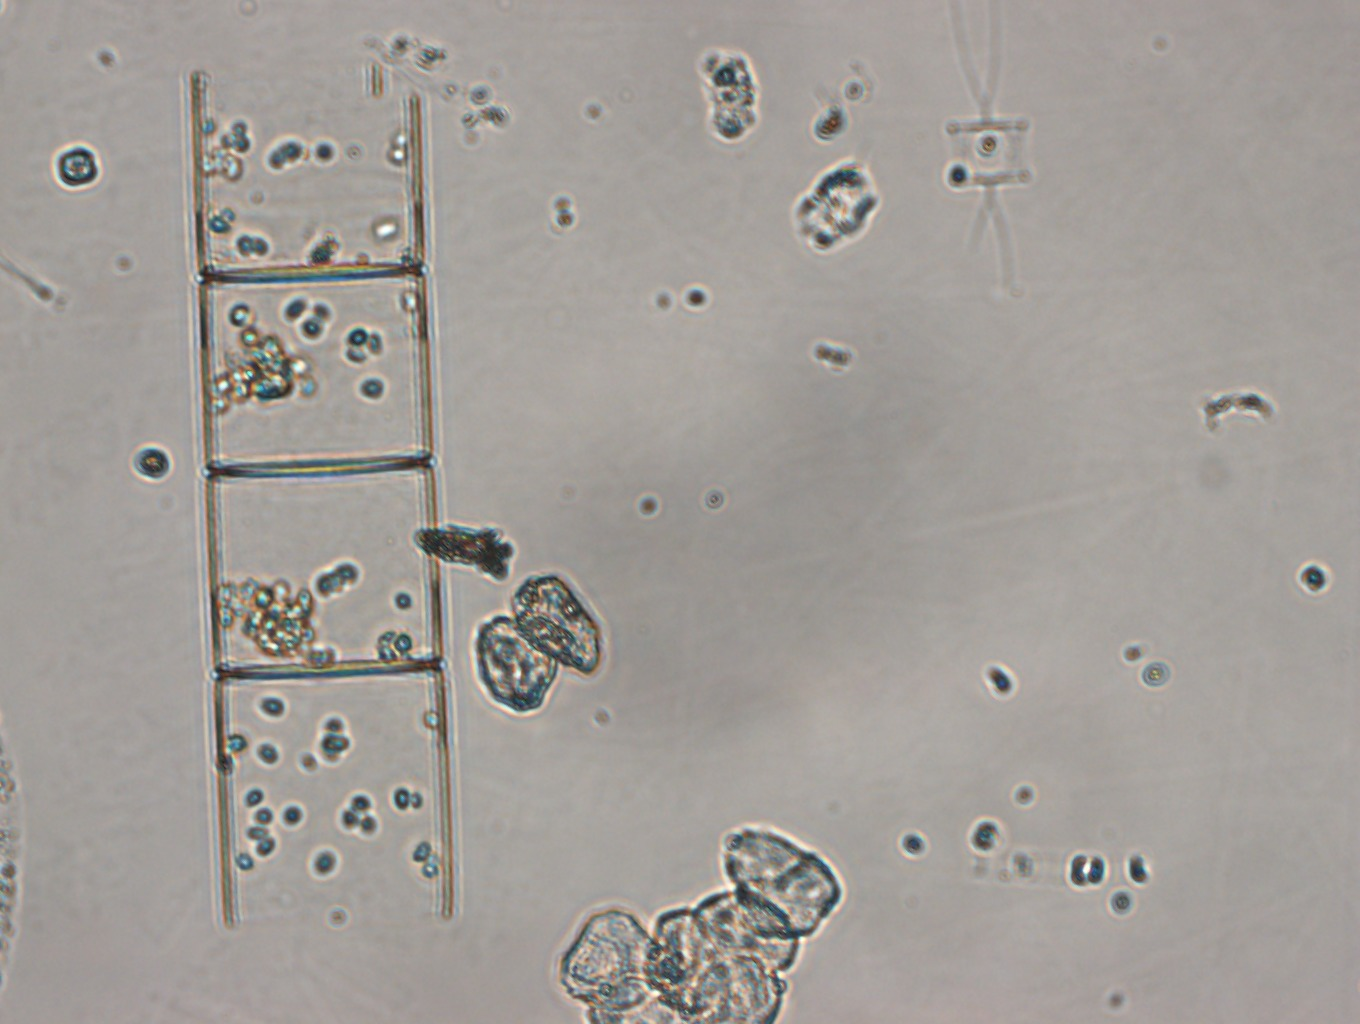chaetoceros: (949, 3, 1031, 283)
guinardia flaccida: (178, 73, 467, 922)
